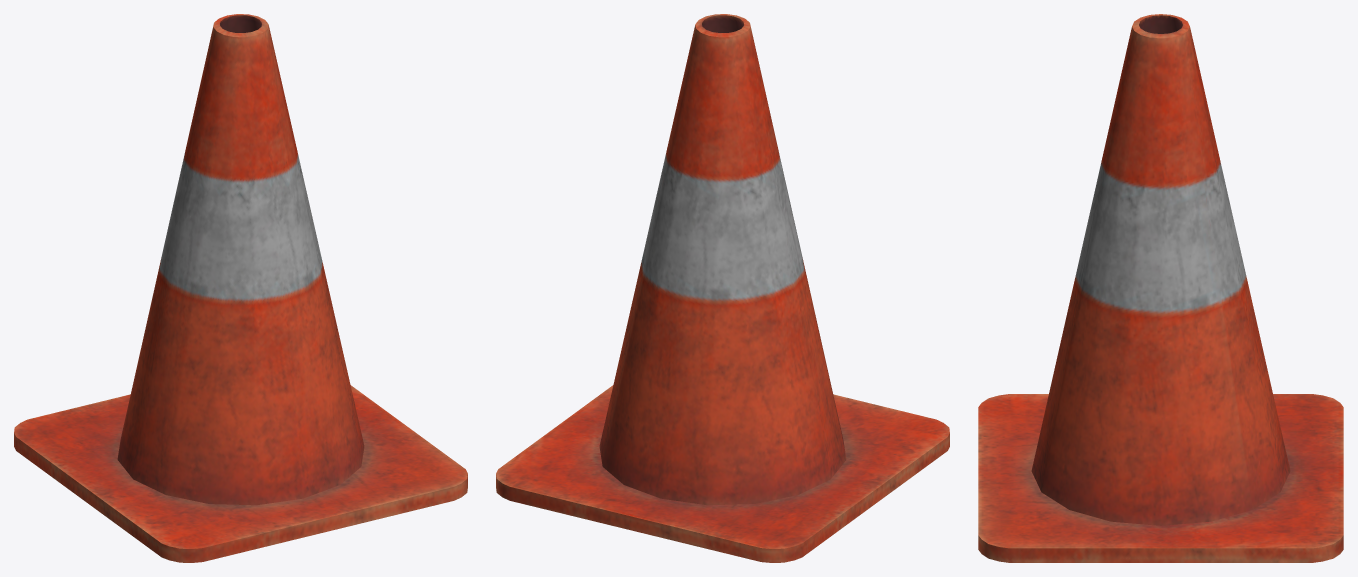
Rendered from 00_Cone_obstacle_A1.glb.
3 renders of one model, left to right at view 1: azimuth 30°, elevation 25°; view 2: azimuth 150°, elevation 25°; view 3: azimuth 270°, elevation 25°, orthographic. The views are drawn at different scales.
Parts seen in each view (by area): view 1: Cone_obstacle_A1; view 2: Cone_obstacle_A1; view 3: Cone_obstacle_A1.
Boxes of the visible parts, <box> form: Cone_obstacle_A1: <box>14,14,467,562</box>; Cone_obstacle_A1: <box>496,14,949,562</box>; Cone_obstacle_A1: <box>978,14,1343,562</box>.
Size of the model in its own units: 0.4171 by 0.5805 by 0.4171.
Materials: 1 (1 with a texture image).
